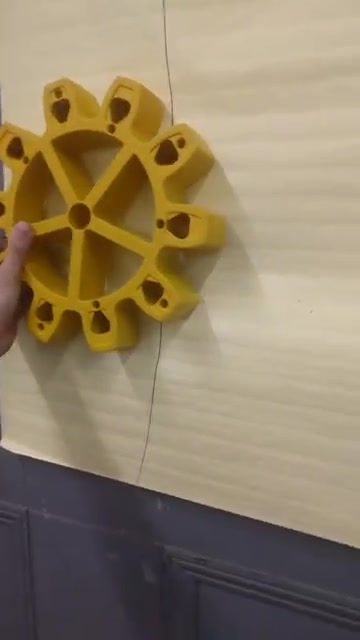gear: (1, 59, 214, 362)
